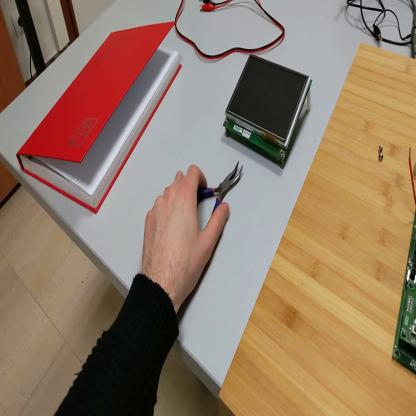hand: (141, 164, 229, 308)
low voltage board: (390, 145, 416, 375)
oscilloscope probe tip: (411, 2, 416, 59)
pliers: (198, 159, 244, 221)
register: (17, 22, 182, 214)
working area: (221, 53, 416, 416)
